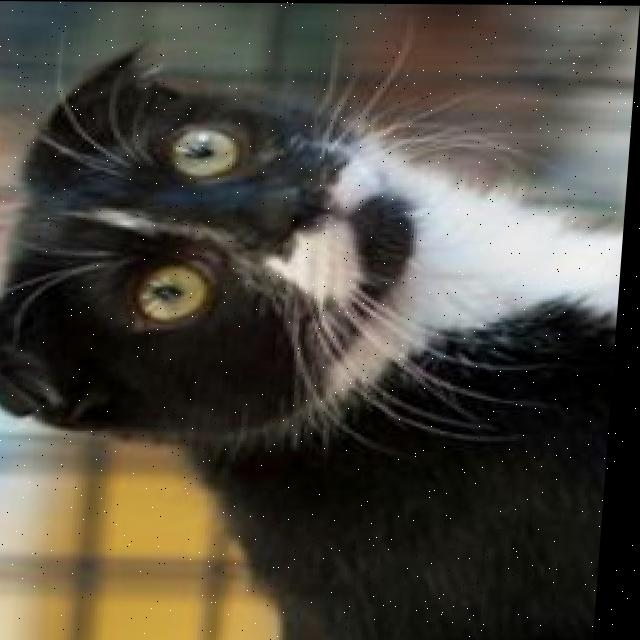Scottish Fold: (0, 40, 638, 640)
